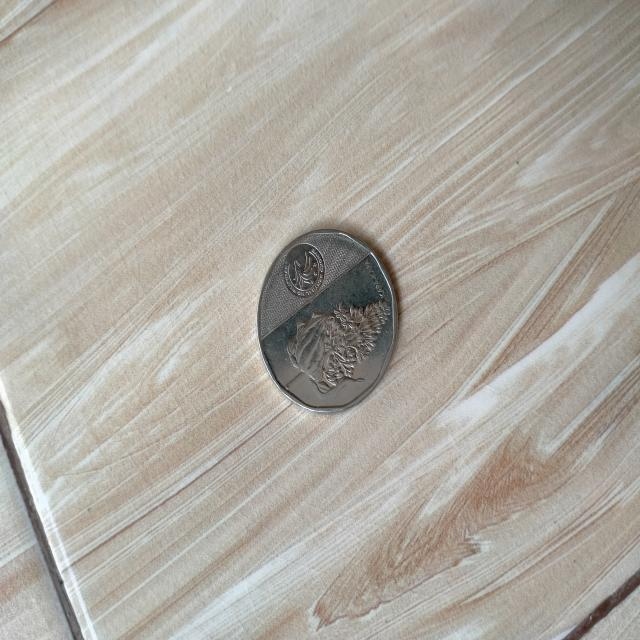10_New_Back: (281, 296, 390, 406)
